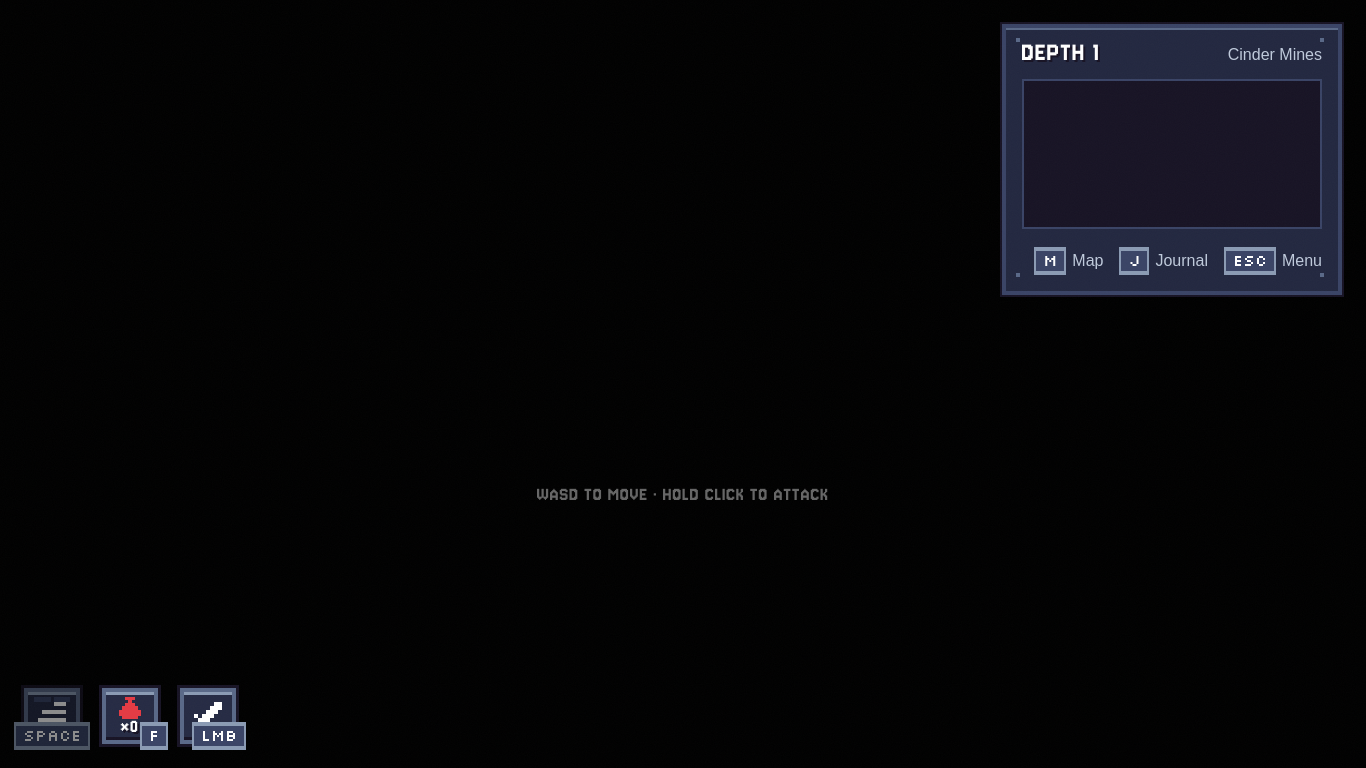
Scenario: DelveRun (the lean HUD, the default) › the Map button (the peek) toggles the large map, the purse and the finds over the running fight, taking no pointer
Click the button with test id "peek-button" at (1069, 261), box [1034,245,1103,277]
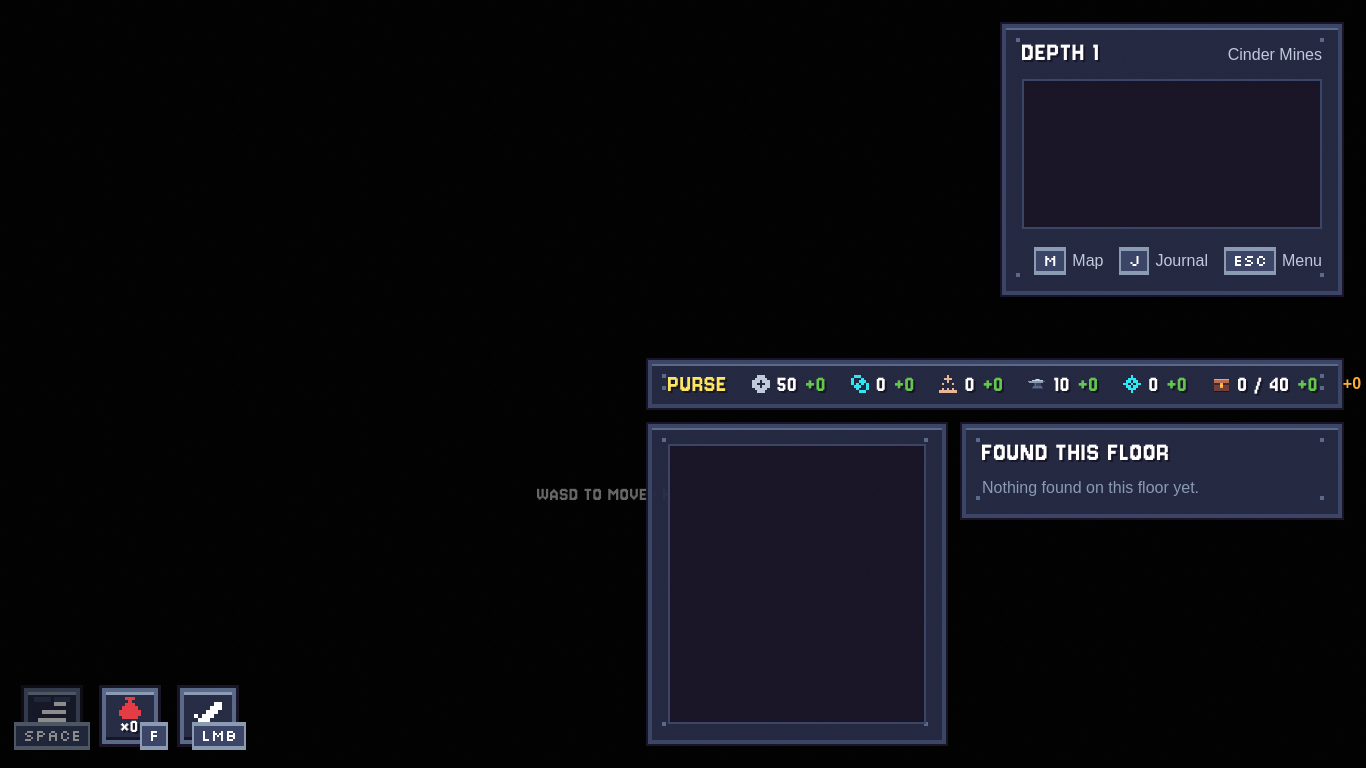
Expected: the picture with test id "peek-map" is shown, [668,444,926,724]
Expected: the element with test id "purse-bar" is shown, [648,360,1342,408]
Expected: the element with test id "pickup-feed" is shown, [962,424,1342,518]
Click the button with test id "peek-button" at (1069, 261), box [1034,245,1103,277]
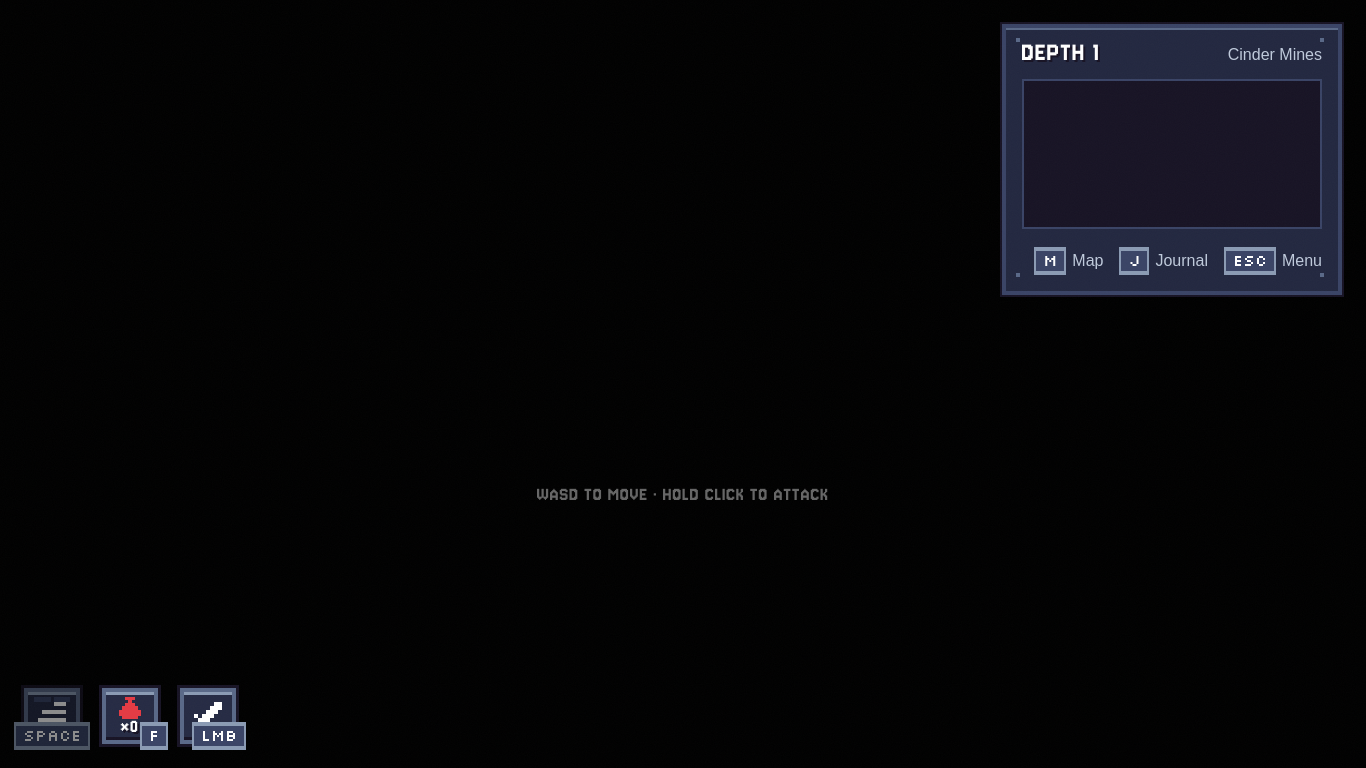
Expected: the element with test id "peek-overlay" is gone
